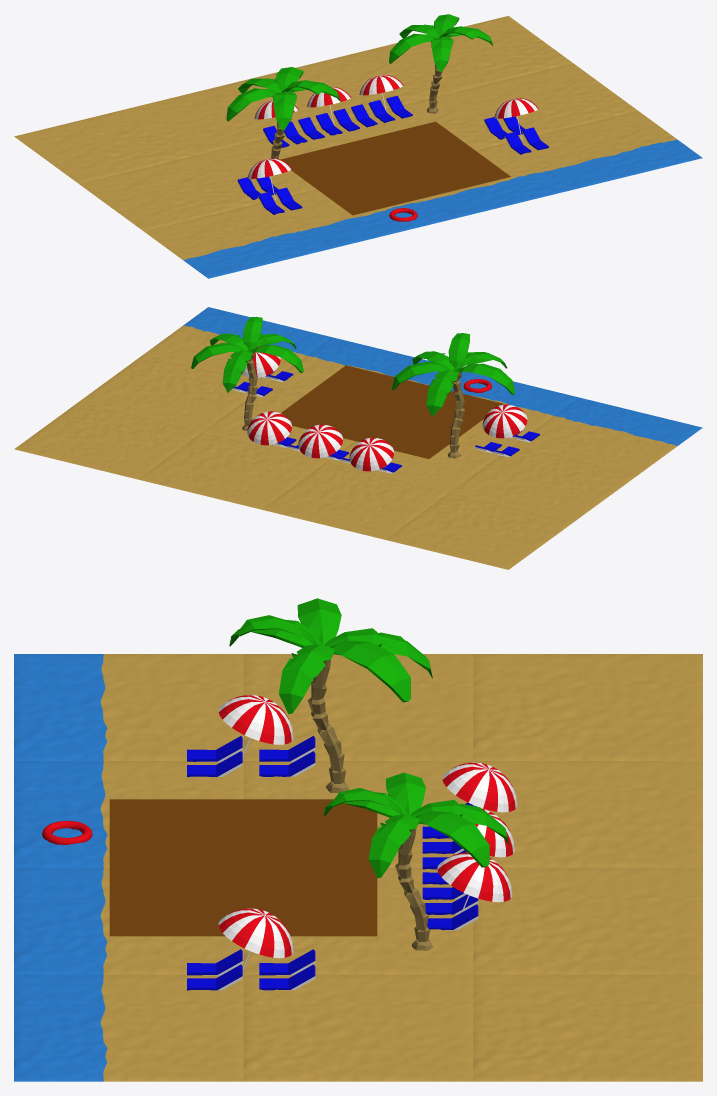
Rendered from map.glb.
3 renders of one model, top to bottom at view 1: azimuth 30°, elevation 25°; view 2: azimuth 150°, elevation 25°; view 3: azimuth 270°, elevation 25°, orthographic. The views are drawn at different scales.
Parts seen in each view (by area): view 1: Beach.004, Plane, Parapluit.004, Low Poly Multicolor Palm Tree.001, Low Poly Multicolor Palm Tree.002, Parapluit.002, Parapluit.003; view 2: Beach.004, Plane, Low Poly Multicolor Palm Tree.001, Parapluit.004, Low Poly Multicolor Palm Tree.002, Parapluit.002, Parapluit.003; view 3: Beach.004, Plane, Low Poly Multicolor Palm Tree.001, Parapluit.004, Low Poly Multicolor Palm Tree.002, Parapluit.003, Parapluit.002, Float.
Boxes of the visible parts, x1=… form: Beach.004: x1=14, y1=16, x2=702, y2=278; Plane: x1=280, y1=121, x2=510, y2=215; Parapluit.004: x1=254, y1=75, x2=412, y2=147; Low Poly Multicolor Palm Tree.001: x1=226, y1=67, x2=340, y2=175; Low Poly Multicolor Palm Tree.002: x1=389, y1=14, x2=493, y2=113; Parapluit.002: x1=237, y1=158, x2=302, y2=214; Parapluit.003: x1=484, y1=98, x2=548, y2=154; Beach.004: x1=14, y1=307, x2=702, y2=569; Plane: x1=281, y1=365, x2=503, y2=458; Low Poly Multicolor Palm Tree.001: x1=392, y1=333, x2=514, y2=458; Parapluit.004: x1=247, y1=411, x2=401, y2=473; Low Poly Multicolor Palm Tree.002: x1=191, y1=316, x2=303, y2=430; Parapluit.002: x1=475, y1=404, x2=539, y2=457; Parapluit.003: x1=232, y1=346, x2=293, y2=396; Beach.004: x1=14, y1=654, x2=702, y2=1081; Plane: x1=109, y1=799, x2=377, y2=936; Low Poly Multicolor Palm Tree.001: x1=229, y1=598, x2=432, y2=793; Parapluit.004: x1=422, y1=762, x2=517, y2=930; Low Poly Multicolor Palm Tree.002: x1=323, y1=772, x2=509, y2=950; Parapluit.003: x1=187, y1=908, x2=315, y2=990; Parapluit.002: x1=187, y1=695, x2=315, y2=777; Float: x1=42, y1=820, x2=92, y2=844.
Size of the model in its own units: 71.28 by 14.87 by 48.53.
